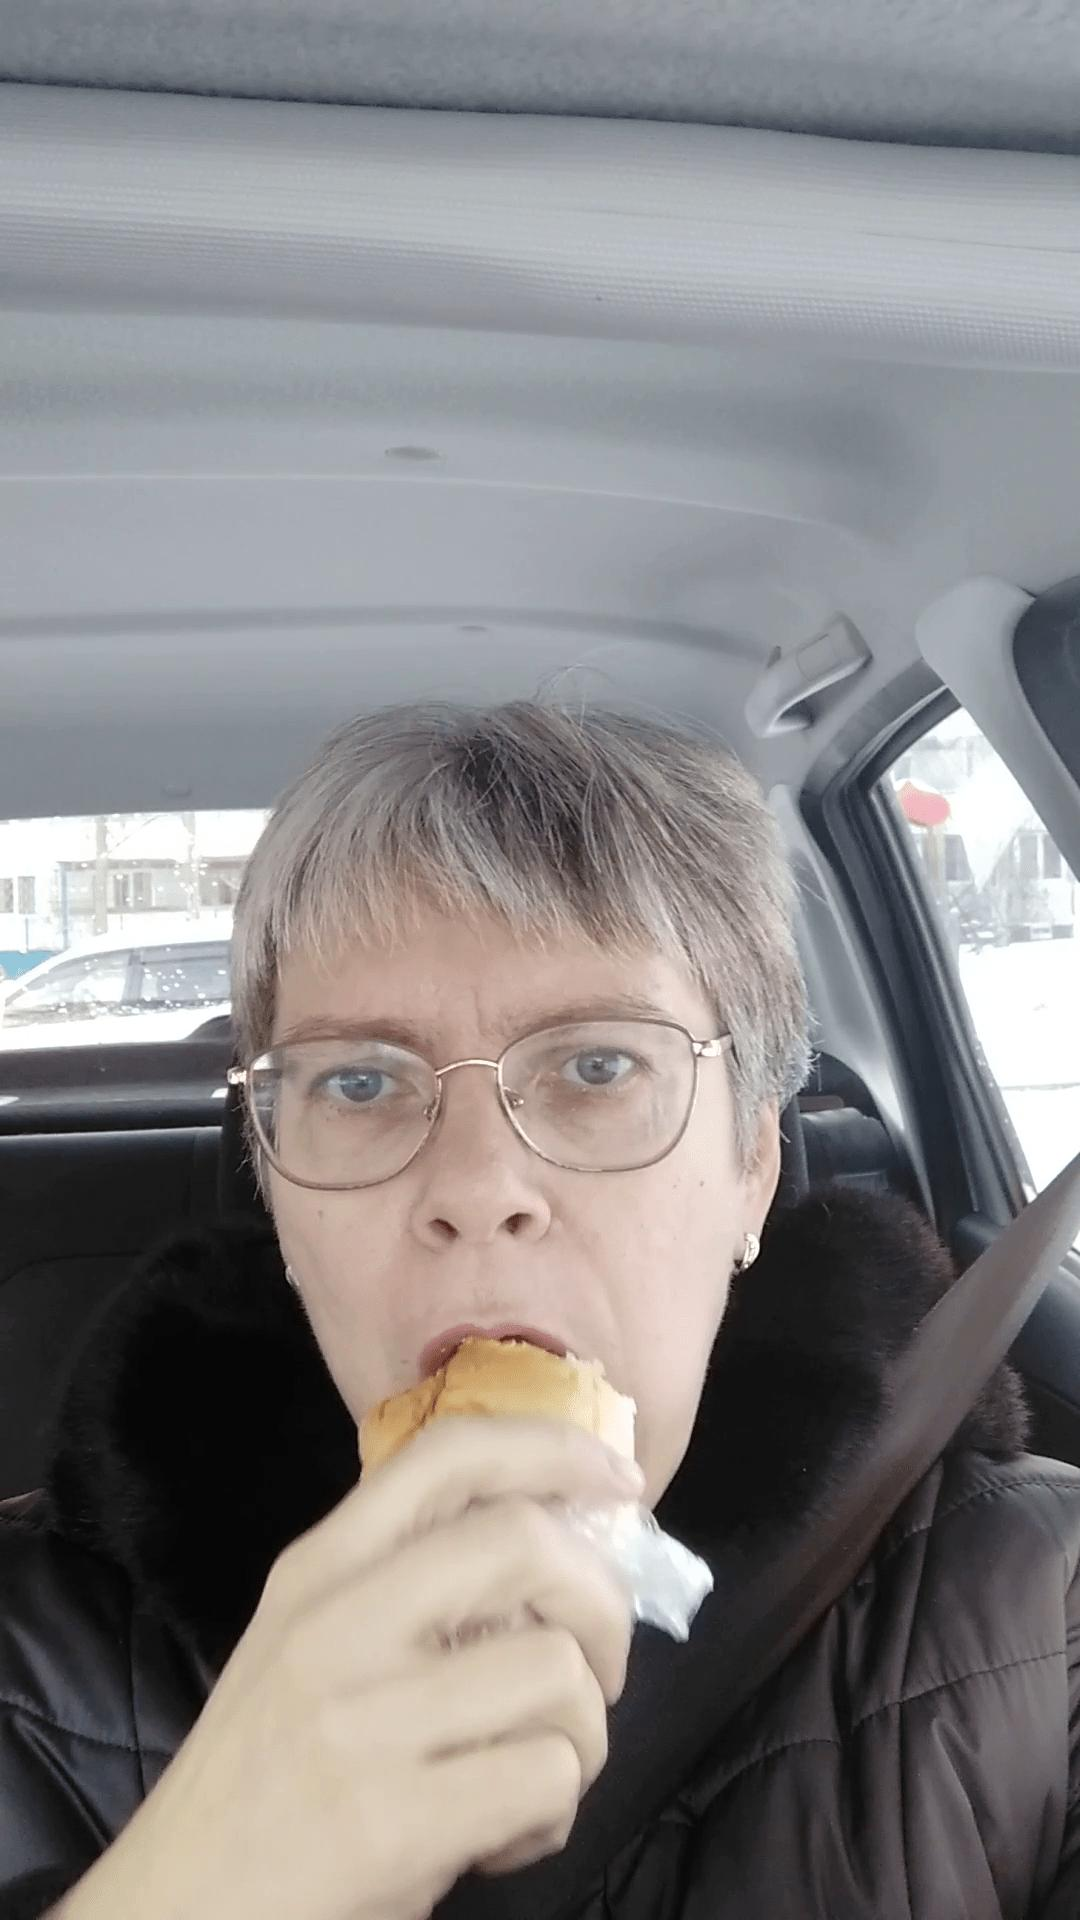Eating: (338, 1298, 708, 1669)
